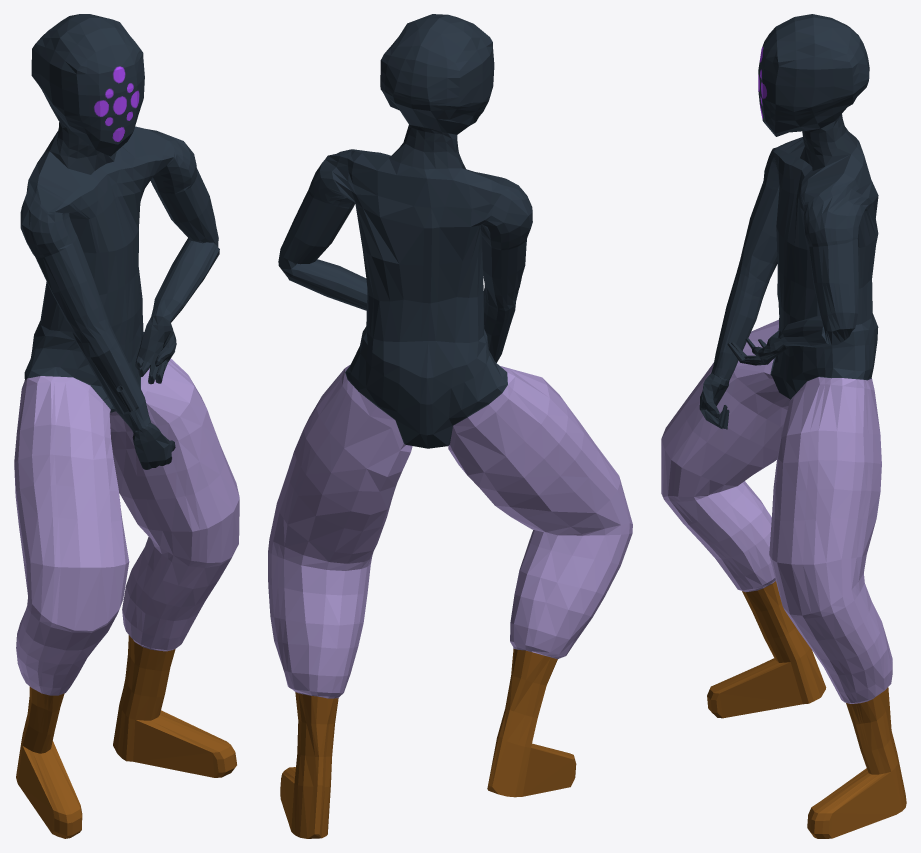
Rendered from Oracle_WL_000019.obj.
3 views of the same model, side by side, from view 1: azimuth 30°, elevation 25°; view 2: azimuth 150°, elevation 25°; view 3: azimuth 270°, elevation 25° (orthographic). The views are drawn at different scales.
Parts seen in each view (by area): view 1: Cube; view 2: Cube; view 3: Cube.
Part boxes in pixels (box(x1,y1,x2,y2)): Cube: box(14, 14, 239, 838); Cube: box(268, 14, 632, 838); Cube: box(661, 14, 906, 838).
Bounding box in the file's own units: 1.39 × 3.8 × 1.12.
